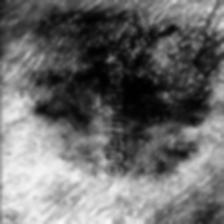Potentially Malignant Skin Tumors: (126, 17, 216, 183), (27, 7, 106, 152)
